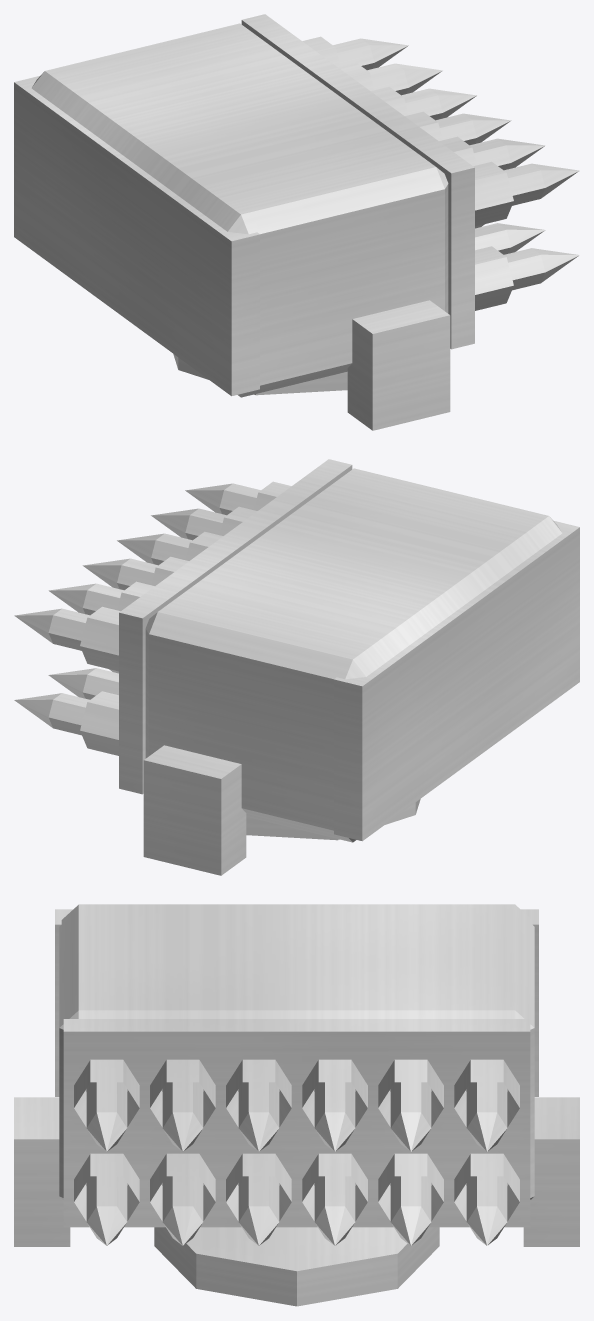
File: rocketswarm_top_full.obj
The picture shows the model from 3 angles, top to bottom: view 1: azimuth 30°, elevation 25°; view 2: azimuth 150°, elevation 25°; view 3: azimuth 270°, elevation 25°; orthographic projection. The views are drawn at different scales.
Visible parts, largest first — view 1: rocketswarm_top_full; view 2: rocketswarm_top_full; view 3: rocketswarm_top_full.
Boxes of the visible parts, x1=… form: rocketswarm_top_full: x1=14, y1=14, x2=579, y2=430; rocketswarm_top_full: x1=14, y1=459, x2=579, y2=875; rocketswarm_top_full: x1=14, y1=904, x2=579, y2=1306.
Size of the model in its own units: 1.11 by 0.67 by 1.31.
